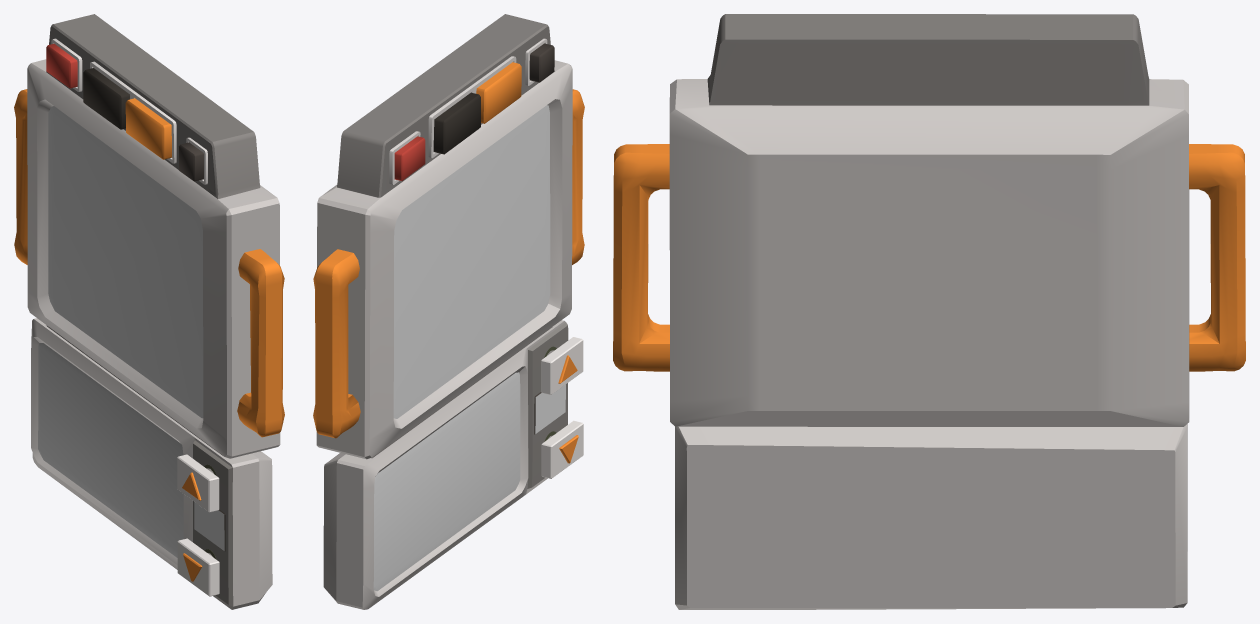
The model's file is LabTablet_V2.fbx.
The picture shows the model from 3 angles, left to right: view 1: azimuth 30°, elevation 25°; view 2: azimuth 150°, elevation 25°; view 3: azimuth 270°, elevation 25°; orthographic projection. The views are drawn at different scales.
Parts seen in each view (by area): view 1: Tablet_TopScreen, Tablet_SensorReadout, Tablet_LabB, Tablet_SandboxB, nudgeTop, nudgeBot, Tablet_ResetB, nudgeImage, Tablet_SettingsB; view 2: Tablet_TopScreen, Tablet_SensorReadout, Tablet_SandboxB, nudgeTop, nudgeBot, Tablet_LabB, nudgeImage, Tablet_ResetB, Tablet_SettingsB; view 3: Tablet_TopScreen, Tablet_SensorReadout.
Boxes of the visible parts, x1,y1,x2,y2 form: Tablet_TopScreen: [14, 14, 284, 458]; Tablet_SensorReadout: [31, 318, 272, 609]; Tablet_LabB: [125, 98, 172, 159]; Tablet_SandboxB: [83, 68, 129, 129]; nudgeTop: [177, 454, 219, 512]; nudgeBot: [177, 538, 219, 596]; Tablet_ResetB: [46, 43, 77, 88]; nudgeImage: [194, 502, 225, 551]; Tablet_SettingsB: [179, 142, 203, 181]; Tablet_TopScreen: [313, 14, 584, 459]; Tablet_SensorReadout: [323, 320, 568, 609]; Tablet_SandboxB: [433, 92, 480, 154]; nudgeTop: [541, 337, 583, 394]; nudgeBot: [541, 420, 583, 478]; Tablet_LabB: [476, 62, 521, 123]; nudgeImage: [534, 384, 565, 434]; Tablet_ResetB: [394, 136, 425, 180]; Tablet_SettingsB: [529, 43, 554, 82]; Tablet_TopScreen: [613, 14, 1245, 426]; Tablet_SensorReadout: [675, 424, 1187, 609].
Bounding box in the file's own units: 0.1286 × 0.5994 × 0.5933.
